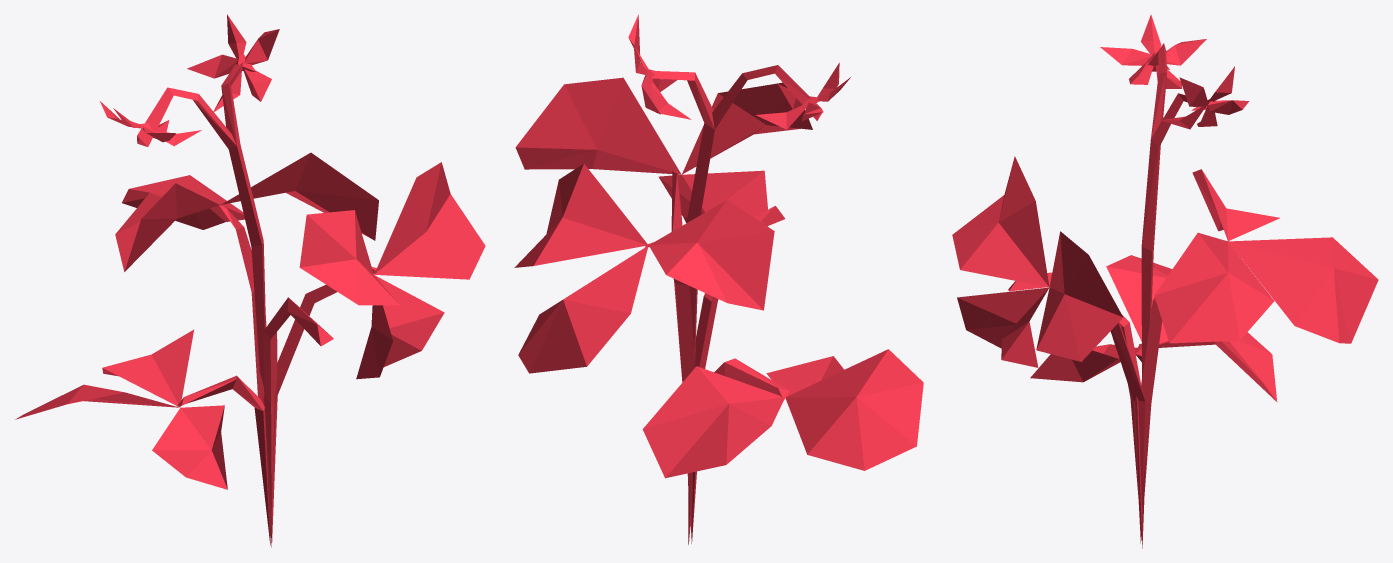
The model's file is strawberry-plant-dead.fbx.
3 views of the same model, side by side, from view 1: azimuth 30°, elevation 25°; view 2: azimuth 150°, elevation 25°; view 3: azimuth 270°, elevation 25° (orthographic). The views are drawn at different scales.
Visible parts, largest first — view 1: strawberry-plant-dead; view 2: strawberry-plant-dead; view 3: strawberry-plant-dead.
Boxes of the visible parts, box(x1,y1,x2,y2) form: strawberry-plant-dead: box(15, 14, 485, 547); strawberry-plant-dead: box(514, 14, 923, 544); strawberry-plant-dead: box(952, 14, 1378, 548).
Bounding box in the file's own units: 0.2906 × 0.3334 × 0.266.
